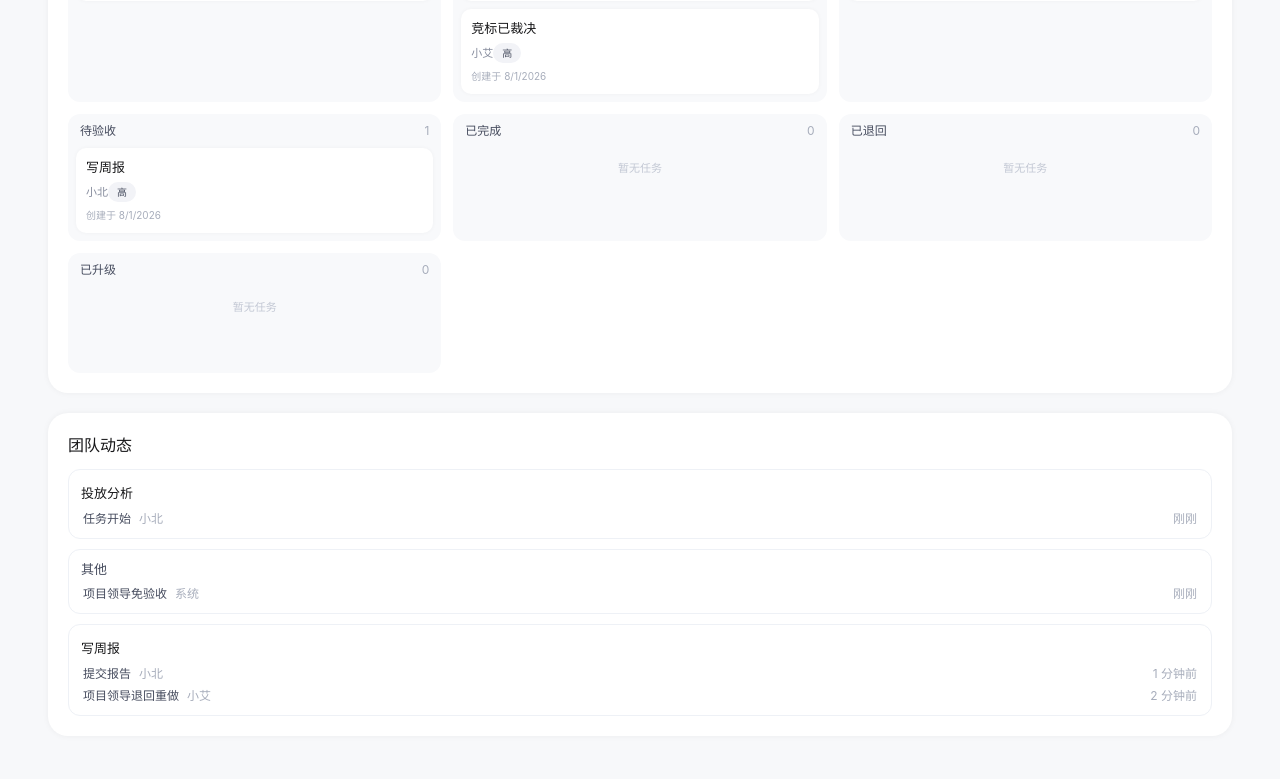
Test case: TeamDetailPage › groups team activity by task and opens the task from the group header
This screenshot has width=1280, height=779.
(page scrolled)
Expected: the text "提交报告" is shown, [83,664,131,682]
Expected: the text "项目领导退回重做" is shown, [83,686,179,704]
# 组头点击打开任务详情
Click the button "写周报" at (100, 649), box [81,639,120,658]
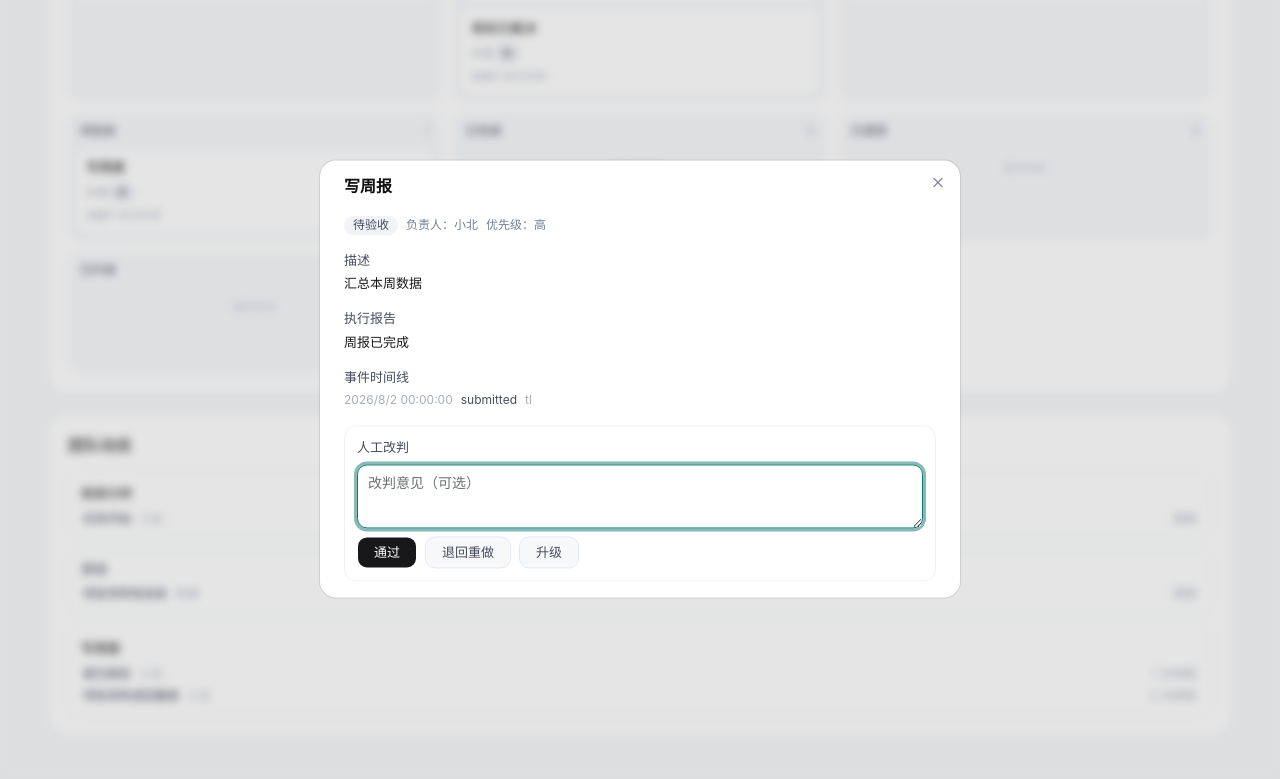
Expected: the text "周报已完成" is shown, [344,334,409,350]
